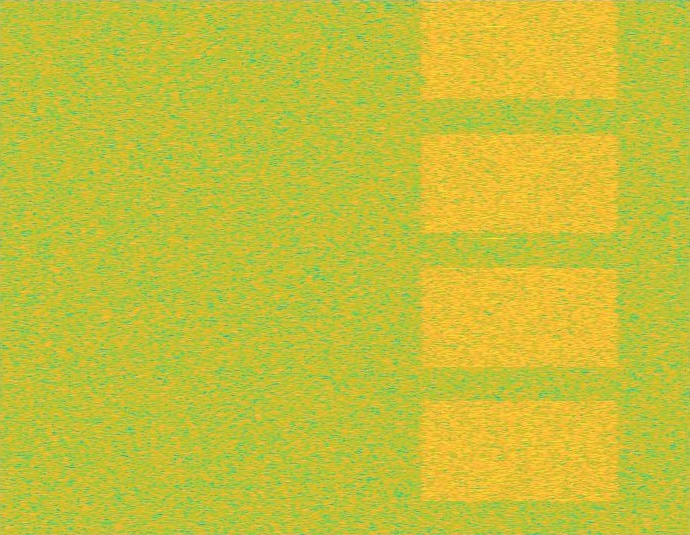5G: (416, 0, 623, 534)
Radar: (488, 0, 502, 534)
